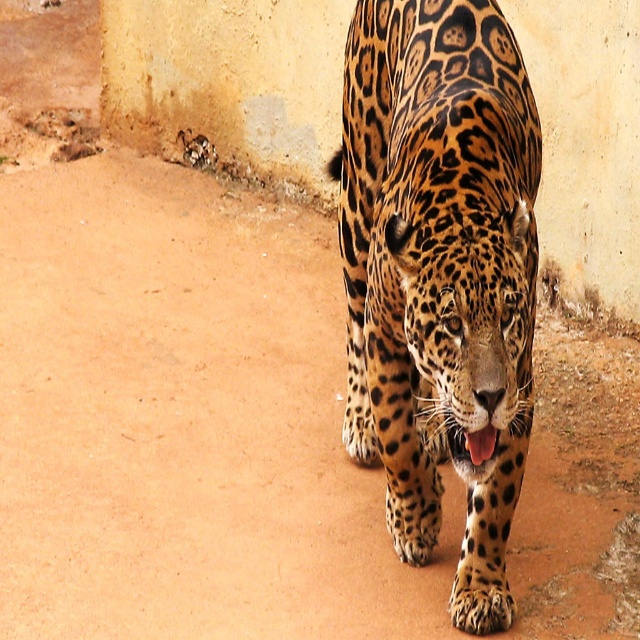Jaguar: (335, 0, 543, 633)
